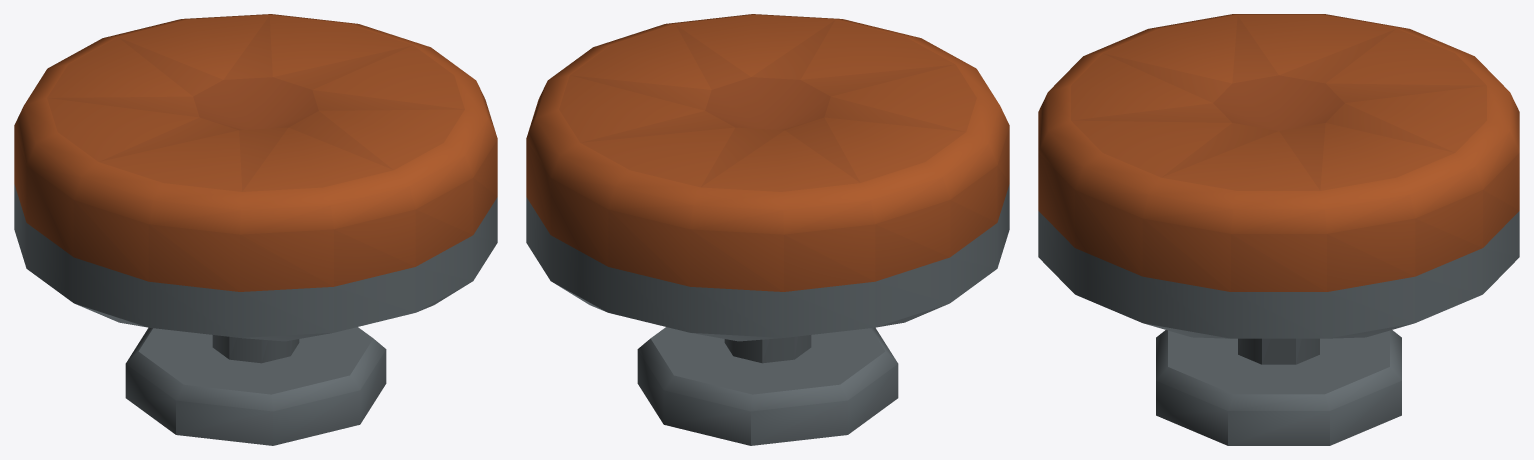
The model's file is kk_restaurant_chair_stool.glb.
3 renders of one model, left to right at view 1: azimuth 30°, elevation 25°; view 2: azimuth 150°, elevation 25°; view 3: azimuth 270°, elevation 25°, orthographic.
Parts seen in each view (by area): view 1: kk_restaurant_chair_stool; view 2: kk_restaurant_chair_stool; view 3: kk_restaurant_chair_stool.
Boxes of the visible parts, box(x1,y1,x2,y2) form: kk_restaurant_chair_stool: box(14, 14, 497, 445); kk_restaurant_chair_stool: box(526, 14, 1009, 445); kk_restaurant_chair_stool: box(1038, 14, 1519, 445).
Size of the model in its own units: 0.75 by 0.5 by 0.75.
